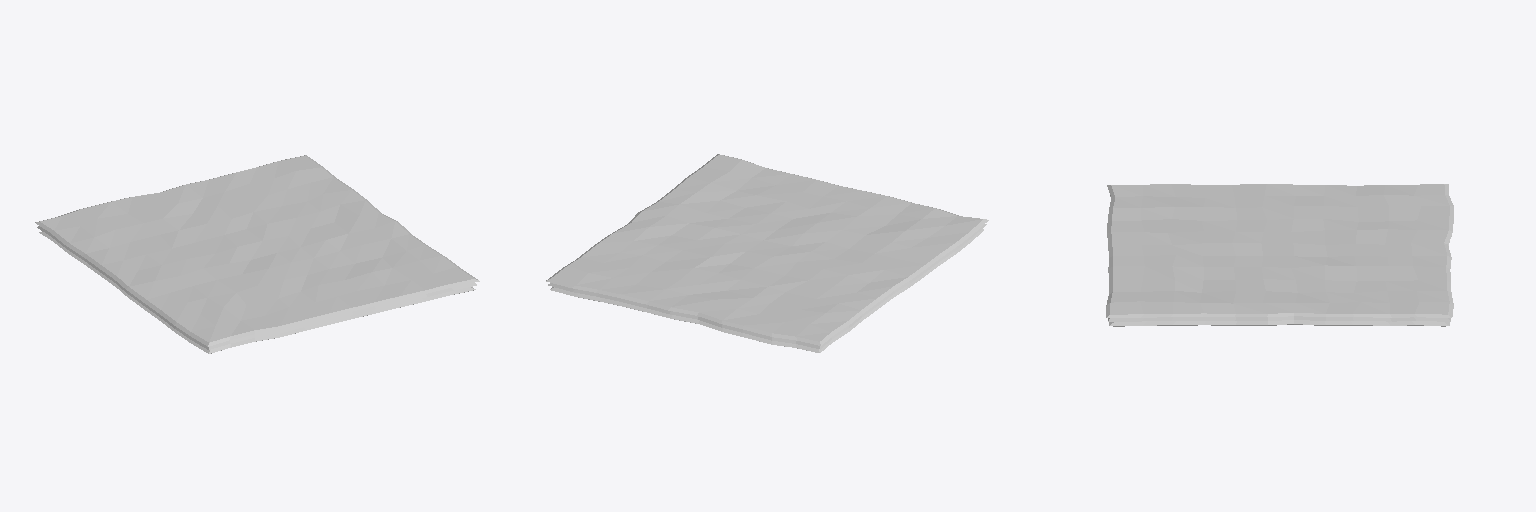
Rendered from ground.obj.
The picture shows the model from 3 angles: view 1: azimuth 30°, elevation 25°; view 2: azimuth 150°, elevation 25°; view 3: azimuth 270°, elevation 25°; orthographic projection.
Parts seen in each view (by area): view 1: Plane_0, Plane_2, Plane_1; view 2: Plane_0, Plane_2, Plane_1; view 3: Plane_0, Plane_2, Plane_1.
Boxes of the visible parts, x1=… form: Plane_0: x1=35, y1=155, x2=479, y2=346; Plane_2: x1=39, y1=231, x2=475, y2=353; Plane_1: x1=37, y1=226, x2=476, y2=349; Plane_0: x1=546, y1=154, x2=988, y2=345; Plane_2: x1=550, y1=229, x2=983, y2=352; Plane_1: x1=548, y1=224, x2=986, y2=349; Plane_0: x1=1106, y1=184, x2=1453, y2=317; Plane_2: x1=1109, y1=196, x2=1449, y2=326; Plane_1: x1=1108, y1=195, x2=1451, y2=321.
Size of the model in its own units: 22.98 by 1.23 by 25.23.